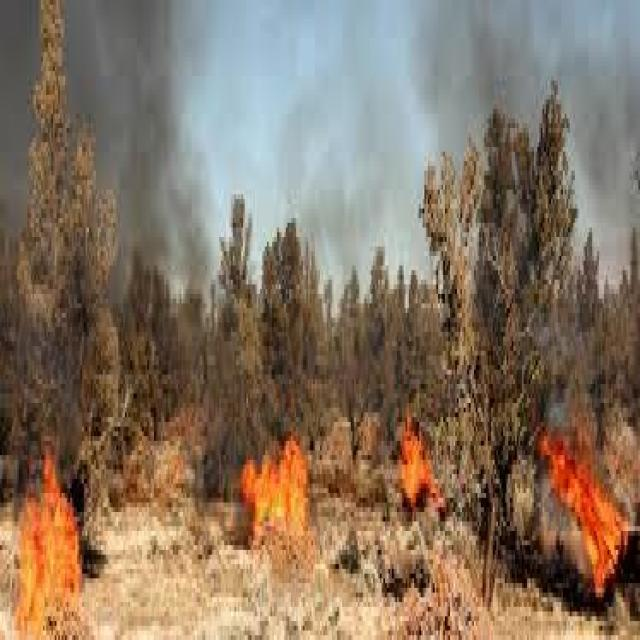Fire: (538, 432, 632, 598), (14, 455, 84, 640), (241, 436, 308, 536), (398, 412, 442, 512)
Smoke: (102, 4, 217, 286), (419, 0, 640, 144), (288, 3, 412, 259), (0, 0, 39, 237)
